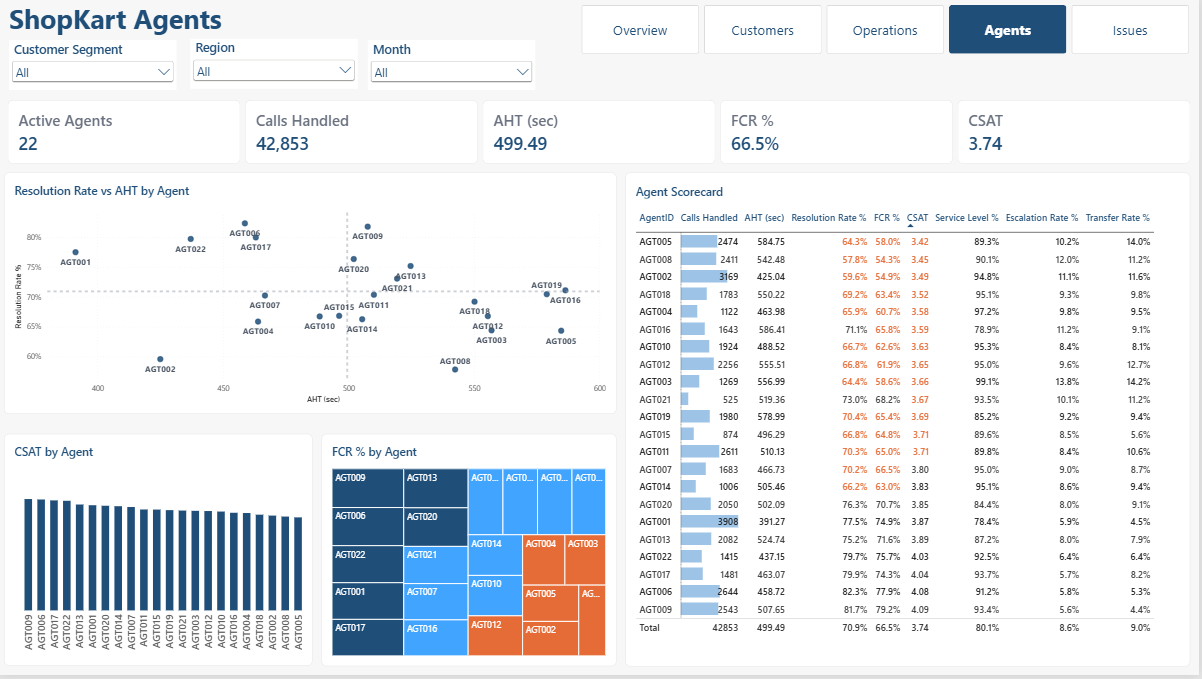

The dashboard page shown, as its layout file describes it:
{"tool":"powerbi","page":{"name":"Agents","canvas":[1920,1080],"ordinal":3},"visuals":[{"type":"textbox","box":[15,0,365.7,76.6],"z":0,"group":"g1"},{"type":"pageNavigator","box":[932,8,974,78],"z":0},{"type":"slicer","fields":{"Values":["DimDate.Month"]},"box":[589.3,63.2,268,80],"z":1000},{"type":"group","id":"g1","title":"Group 1","box":[15,0,365,77.5],"z":2000},{"type":"slicer","fields":{"Values":["DimCustomer.CustomerSegment"]},"box":[15.3,63.2,268,80],"z":3000},{"type":"slicer","fields":{"Values":["DimLocation.Region"]},"box":[305,62.5,268,80],"z":4000},{"type":"cardVisual","fields":{"Data":["allMeasures.Active Agents","allMeasures.Answered Calls","allMeasures.AHT (sec)","allMeasures.FCR %","allMeasures.CSAT"]},"box":[14,160,1892,102],"z":5000},{"type":"scatterChart","title":"Resolution Rate vs AHT by Agent","fields":{"Category":["DimAgent.AgentID"],"X":["allMeasures.AHT (sec)"],"Y":["allMeasures.Resolution Rate %"]},"box":[8,276,980,386],"z":6000},{"type":"columnChart","title":"CSAT by Agent","fields":{"Category":["DimAgent.AgentID"],"Y":["allMeasures.CSAT"]},"box":[7.7,693.1,494,371.4],"z":7000},{"type":"treemap","title":"FCR % by Agent","fields":{"Group":["DimAgent.AgentID"],"Values":["allMeasures.FCR %"]},"box":[516,694,472,372],"z":8000},{"type":"tableEx","title":"Agent Scorecard","fields":{"Values":["DimAgent.AgentID","allMeasures.Answered Calls","allMeasures.AHT (sec)","allMeasures.Resolution Rate %","allMeasures.FCR %","allMeasures.CSAT","allMeasures.Service Level %","allMeasures.Escalation Rate %","allMeasures.Transfer Rate %"]},"box":[1002,276,904,790],"z":9000}]}

Visuals, with their boxes in screenshot pixels (x1, y1, x2, y2), scaled from the page's 1920x1080 canvas onto the 1202x679 screenshot:
textbox: {"x1": 9, "y1": 0, "x2": 238, "y2": 48}
pageNavigator: {"x1": 583, "y1": 5, "x2": 1193, "y2": 54}
slicer - DimDate.Month: {"x1": 369, "y1": 40, "x2": 537, "y2": 90}
"Group 1" group: {"x1": 9, "y1": 0, "x2": 238, "y2": 49}
slicer - DimCustomer.CustomerSegment: {"x1": 10, "y1": 40, "x2": 177, "y2": 90}
slicer - DimLocation.Region: {"x1": 191, "y1": 39, "x2": 359, "y2": 90}
cardVisual - allMeasures.Active Agents x allMeasures.Answered Calls: {"x1": 9, "y1": 101, "x2": 1193, "y2": 165}
"Resolution Rate vs AHT by Agent" scatterChart: {"x1": 5, "y1": 174, "x2": 619, "y2": 416}
"CSAT by Agent" columnChart: {"x1": 5, "y1": 436, "x2": 314, "y2": 669}
"FCR % by Agent" treemap: {"x1": 323, "y1": 436, "x2": 619, "y2": 670}
"Agent Scorecard" tableEx: {"x1": 627, "y1": 174, "x2": 1193, "y2": 670}
